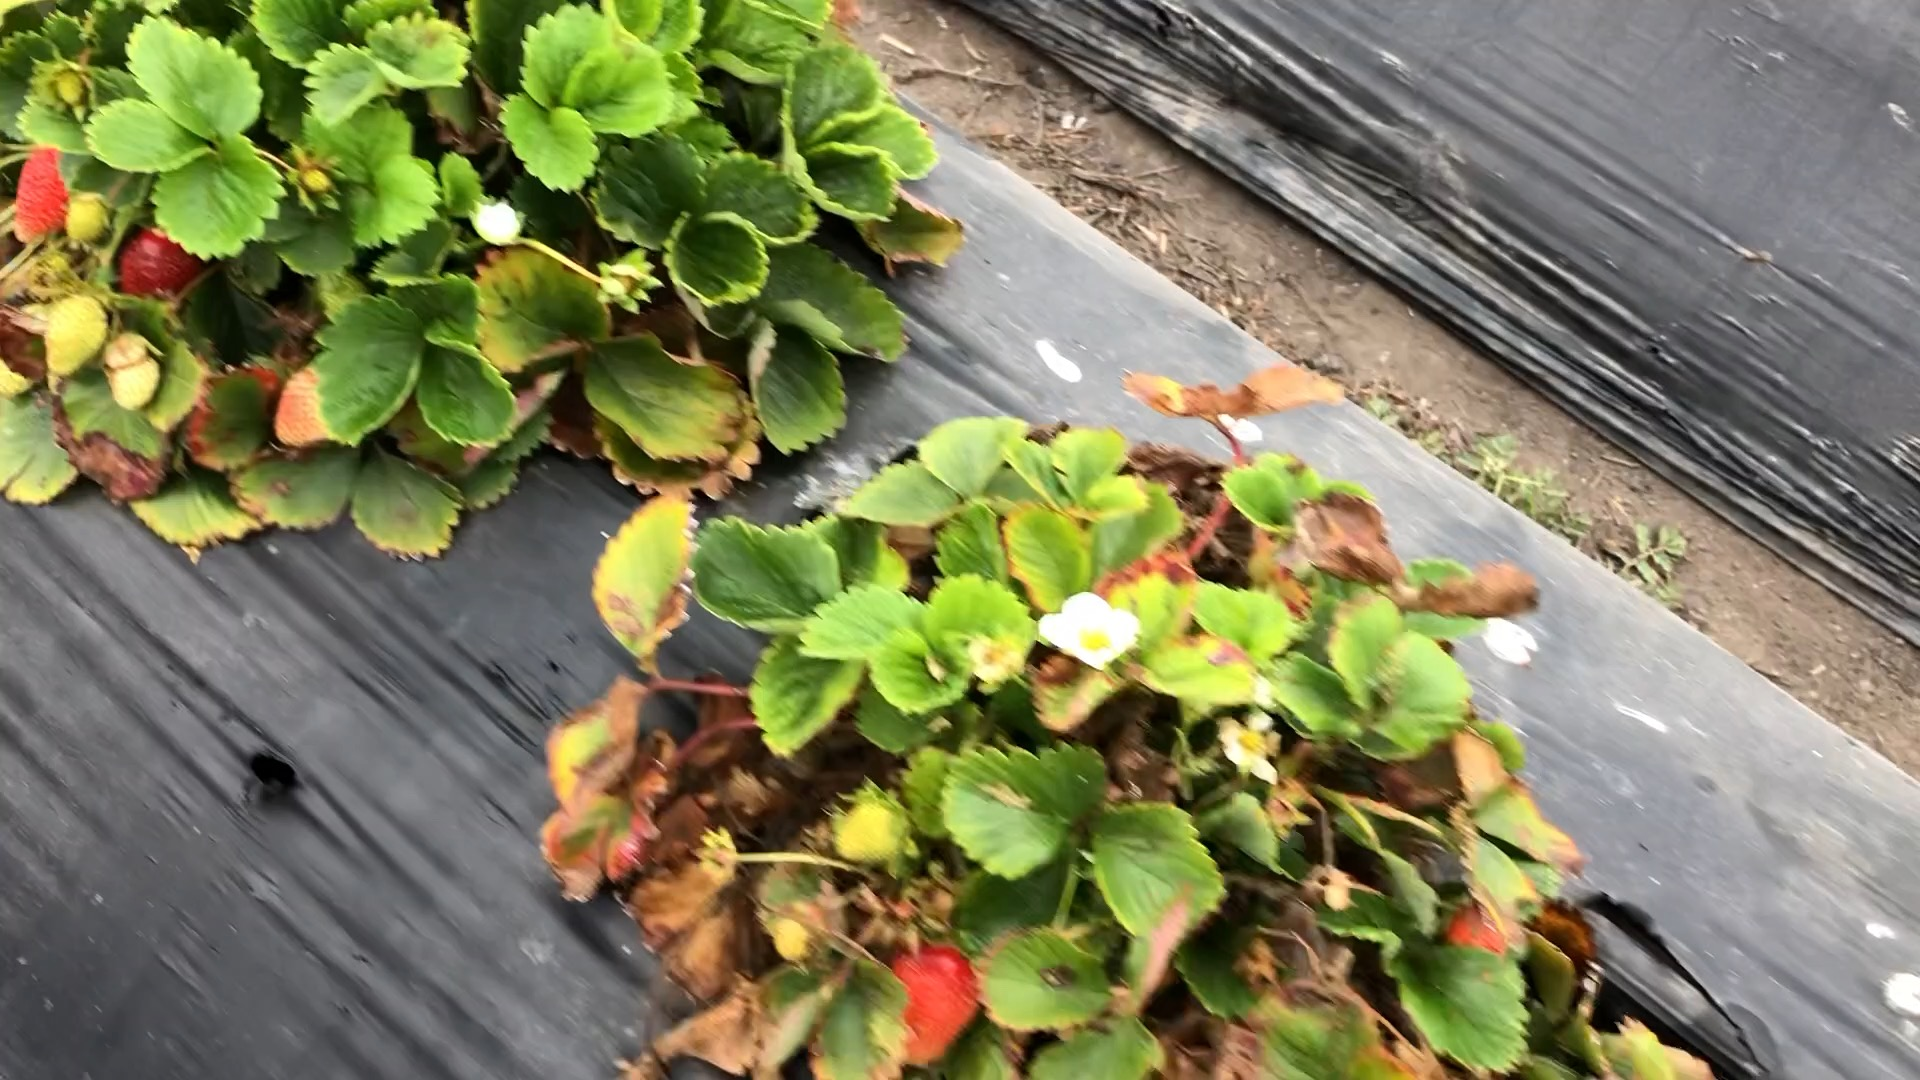ripe_strawberry: (881, 942, 984, 1069), (119, 227, 200, 309), (13, 142, 73, 248)
unripe_strawberry: (272, 365, 343, 454), (833, 793, 915, 869), (44, 280, 104, 378), (62, 189, 108, 249)
